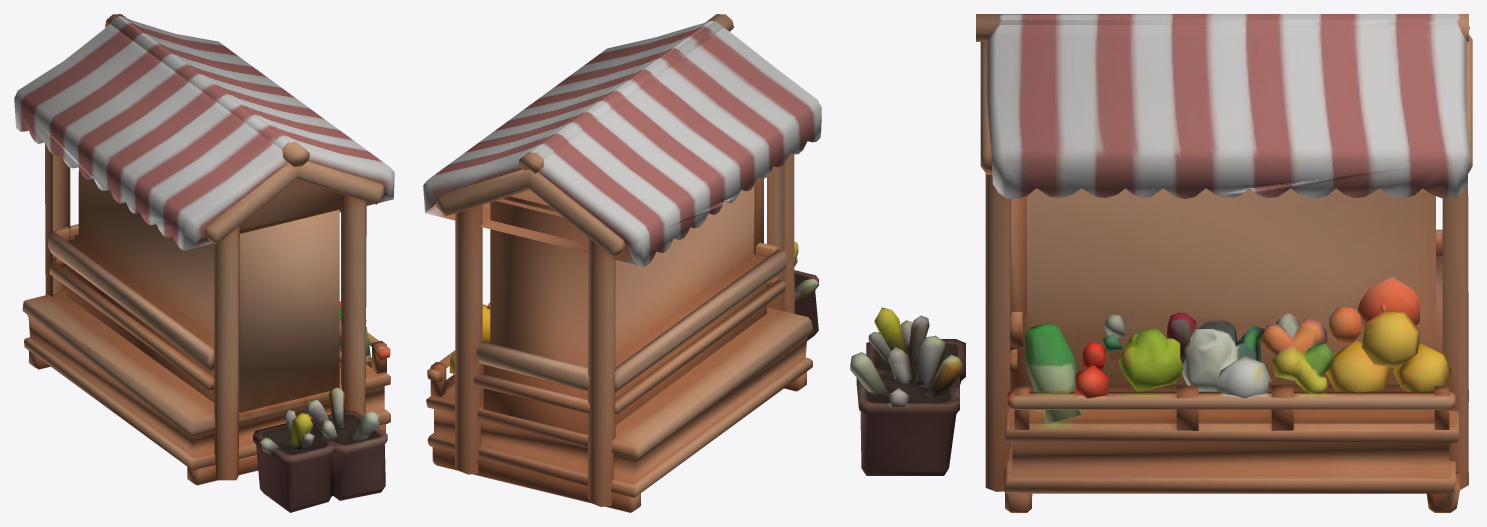
3 renders of one model, left to right at view 1: azimuth 30°, elevation 25°; view 2: azimuth 150°, elevation 25°; view 3: azimuth 270°, elevation 25°, orthographic. The views are drawn at different scales.
Visible parts, largest first — view 1: tripo_node_1a378d28-7135-4d57-a86a-6791e95e4817; view 2: tripo_node_1a378d28-7135-4d57-a86a-6791e95e4817; view 3: tripo_node_1a378d28-7135-4d57-a86a-6791e95e4817.
Part boxes in pixels (x1=…): tripo_node_1a378d28-7135-4d57-a86a-6791e95e4817: x1=14, y1=14, x2=394, y2=512; tripo_node_1a378d28-7135-4d57-a86a-6791e95e4817: x1=423, y1=14, x2=821, y2=512; tripo_node_1a378d28-7135-4d57-a86a-6791e95e4817: x1=850, y1=14, x2=1472, y2=512.
Size of the model in its own units: 0.5254 by 0.7715 by 0.998.
Materials: 1 (1 with a texture image).
